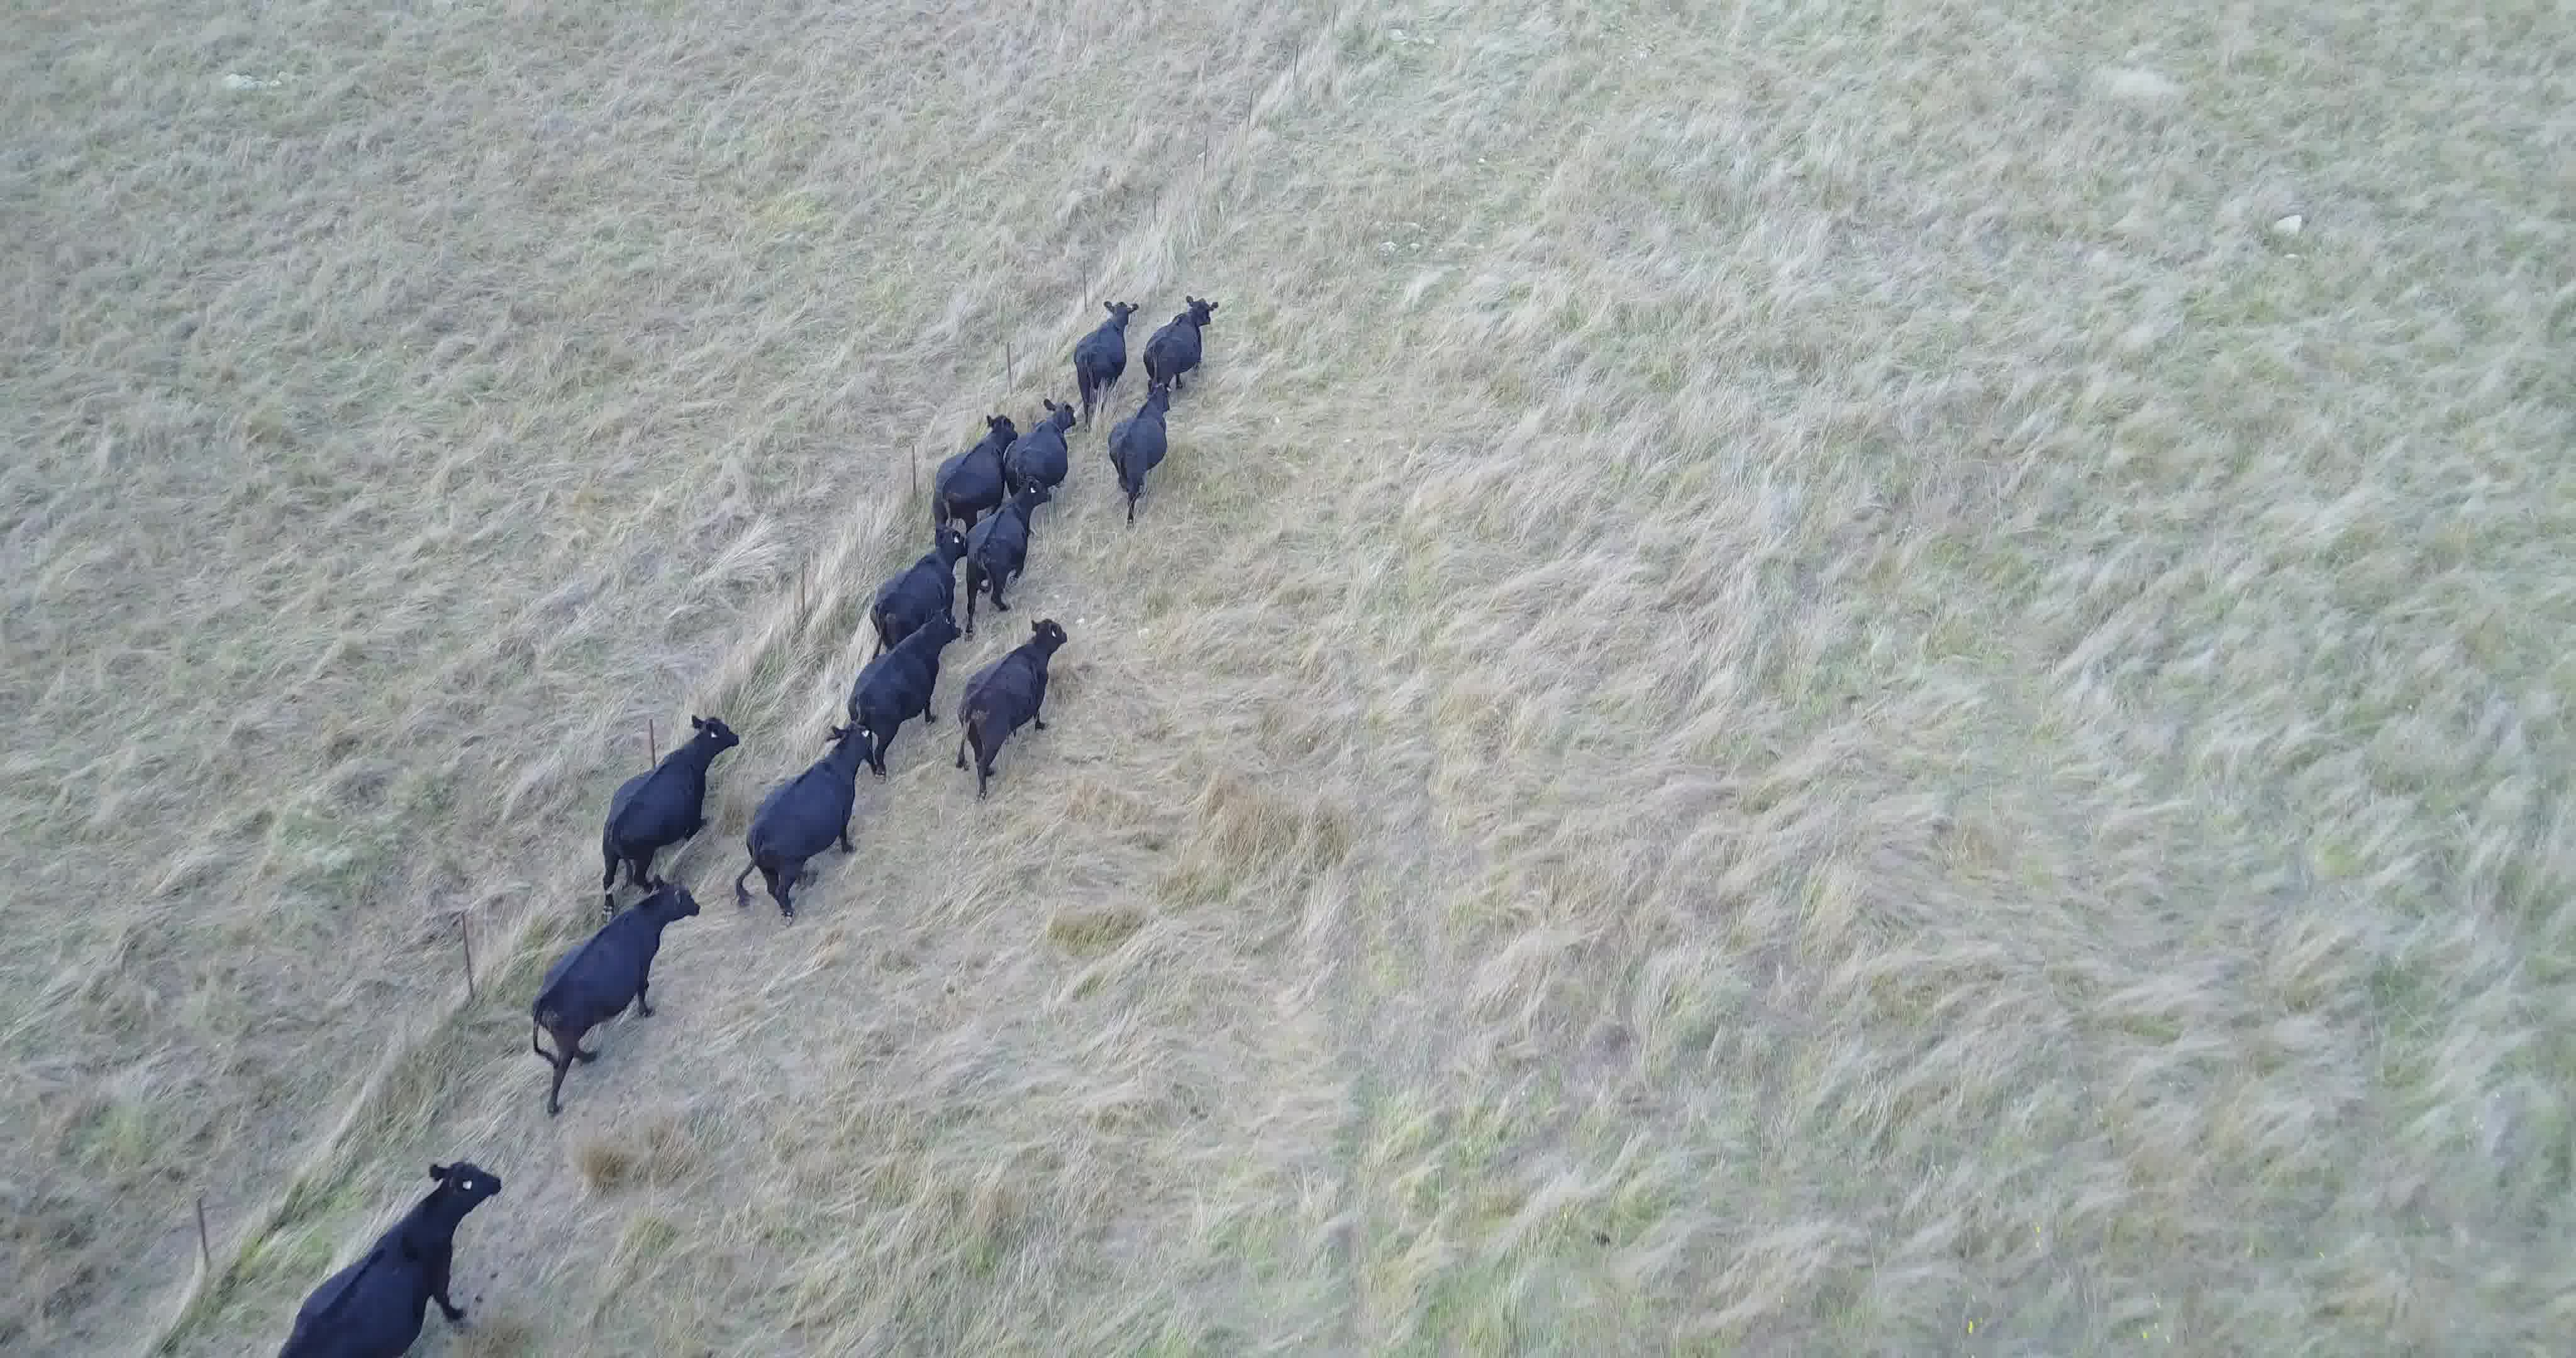cattle: (245, 1155, 511, 1358), (515, 879, 717, 1113), (731, 721, 883, 927), (595, 705, 741, 913), (954, 619, 1082, 811), (842, 613, 963, 777), (862, 528, 968, 647), (969, 475, 1053, 619), (1106, 382, 1177, 528), (927, 411, 1017, 525), (1070, 298, 1138, 428), (1141, 295, 1218, 400), (1005, 397, 1082, 494)
